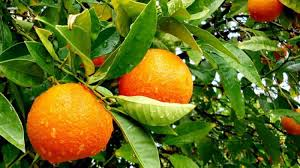orange: (23, 83, 117, 166), (112, 47, 195, 119), (243, 1, 286, 24)
